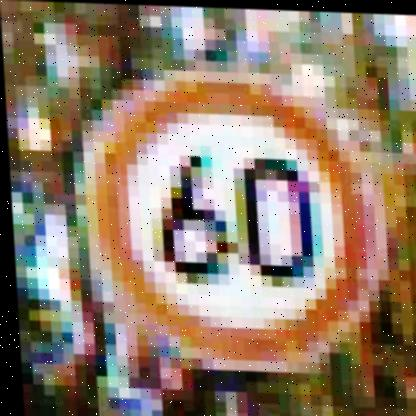Speed Limit -60-: (75, 72, 384, 375)
